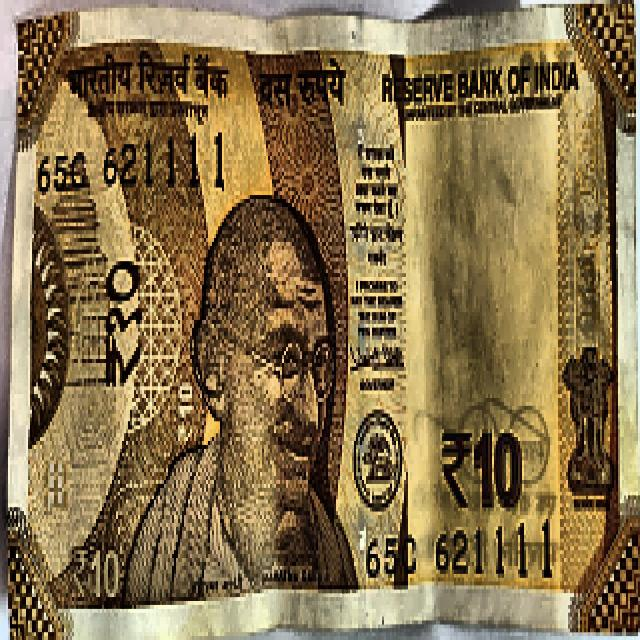-10-: (17, 11, 625, 610)
